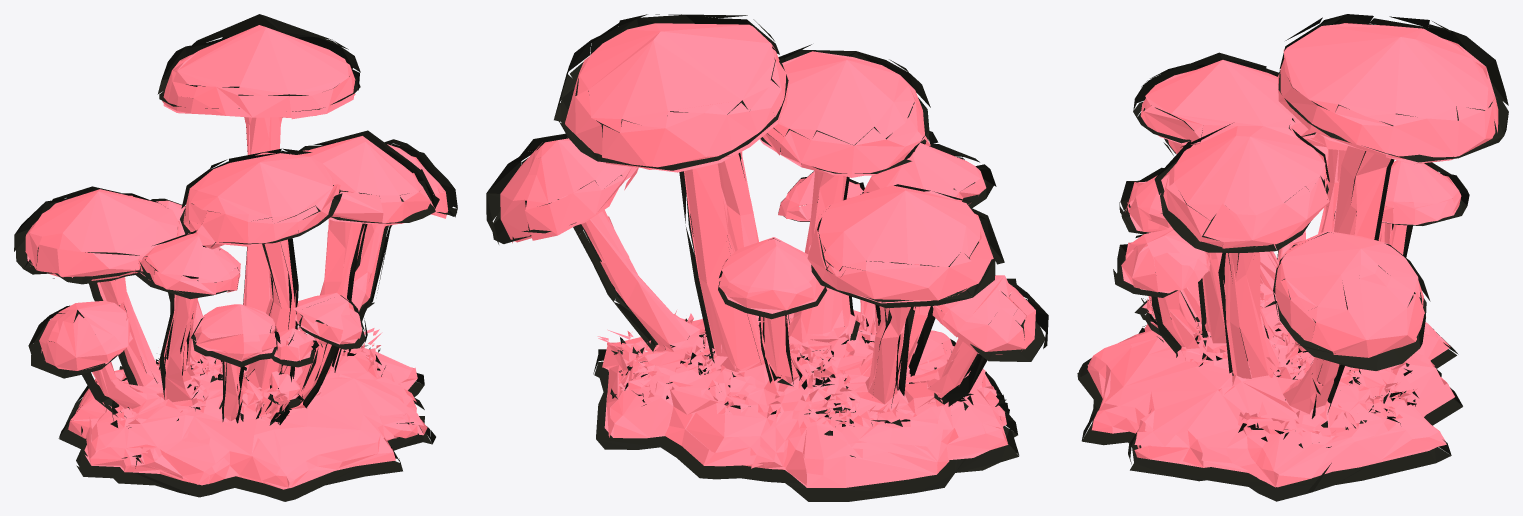
Rendered from df_v2_mushroom_cluster_small_f_a.glb.
The picture shows the model from 3 angles, left to right: view 1: azimuth 30°, elevation 25°; view 2: azimuth 150°, elevation 25°; view 3: azimuth 270°, elevation 25°; orthographic projection. The views are drawn at different scales.
Visible parts, largest first — view 1: mushroom_cluster_small_f_mesh_01, mushroom_cluster_small_f_mesh_01_ink_outline; view 2: mushroom_cluster_small_f_mesh_01, mushroom_cluster_small_f_mesh_01_ink_outline; view 3: mushroom_cluster_small_f_mesh_01, mushroom_cluster_small_f_mesh_01_ink_outline.
Boxes of the visible parts, x1=… form: mushroom_cluster_small_f_mesh_01: x1=25, y1=25, x2=447, y2=489; mushroom_cluster_small_f_mesh_01_ink_outline: x1=14, y1=14, x2=457, y2=501; mushroom_cluster_small_f_mesh_01: x1=500, y1=23, x2=1035, y2=487; mushroom_cluster_small_f_mesh_01_ink_outline: x1=486, y1=14, x2=1048, y2=501; mushroom_cluster_small_f_mesh_01: x1=1087, y1=23, x2=1498, y2=487; mushroom_cluster_small_f_mesh_01_ink_outline: x1=1077, y1=14, x2=1508, y2=501.
Bounding box in the file's own units: 0.735 × 0.5745 × 0.5375.
